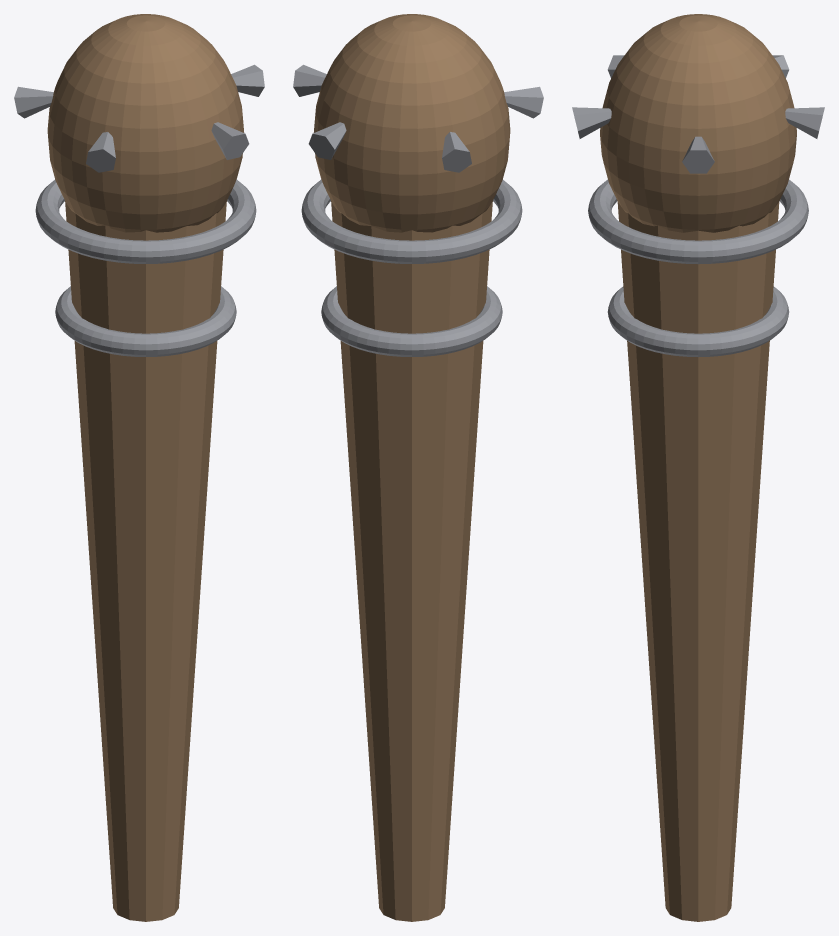
File: gorr_club.glb
The picture shows the model from 3 angles, left to right: view 1: azimuth 30°, elevation 25°; view 2: azimuth 150°, elevation 25°; view 3: azimuth 270°, elevation 25°; orthographic projection.
Visible parts, largest first — view 1: Cone.005; view 2: Cone.005; view 3: Cone.005.
Boxes of the visible parts, bbox=[...] form: Cone.005: bbox=[14, 14, 264, 921]; Cone.005: bbox=[293, 14, 543, 921]; Cone.005: bbox=[572, 14, 824, 921].
Bounding box in the file's own units: 0.366 × 1.49 × 0.3846.
